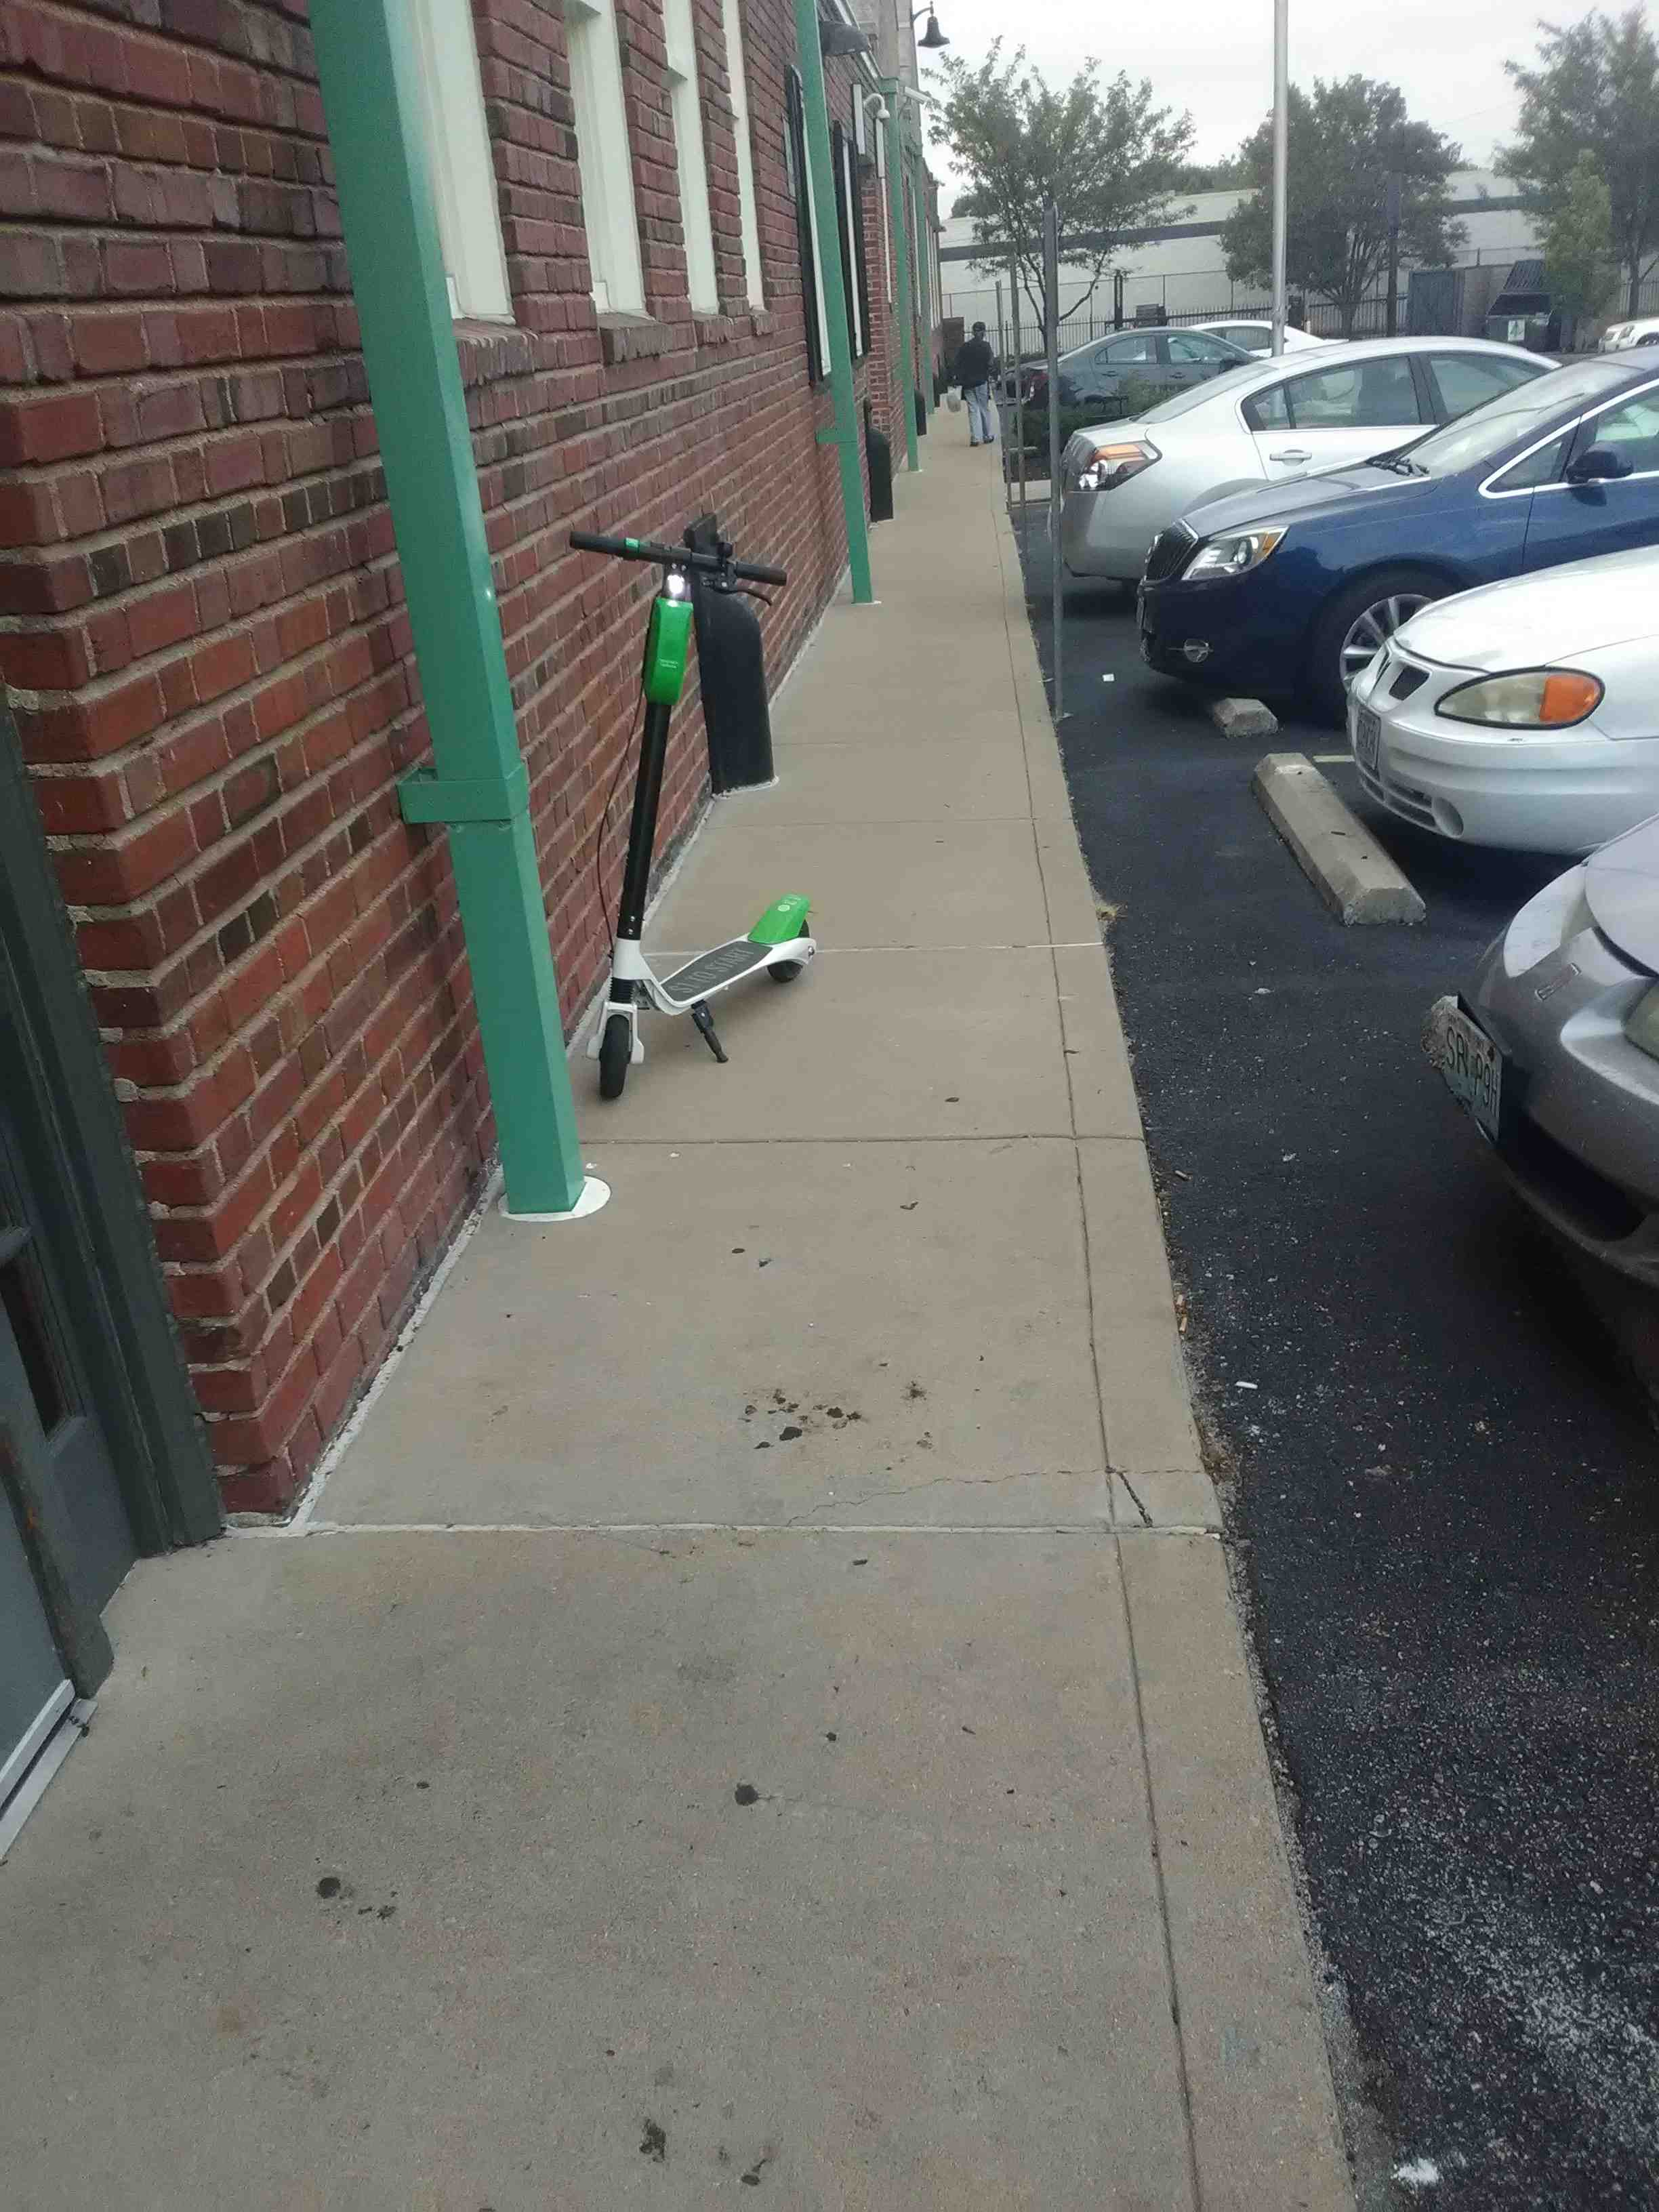scooter: (532, 469, 843, 1096)
